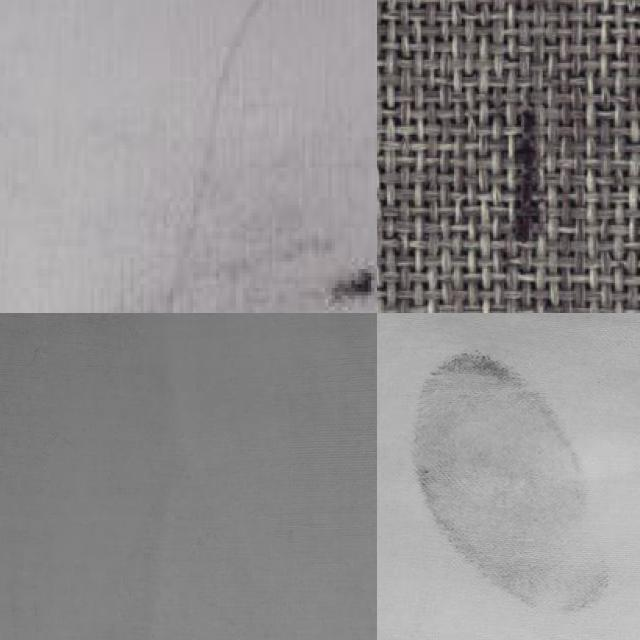Hole: (377, 313, 640, 640), (468, 79, 578, 279)
